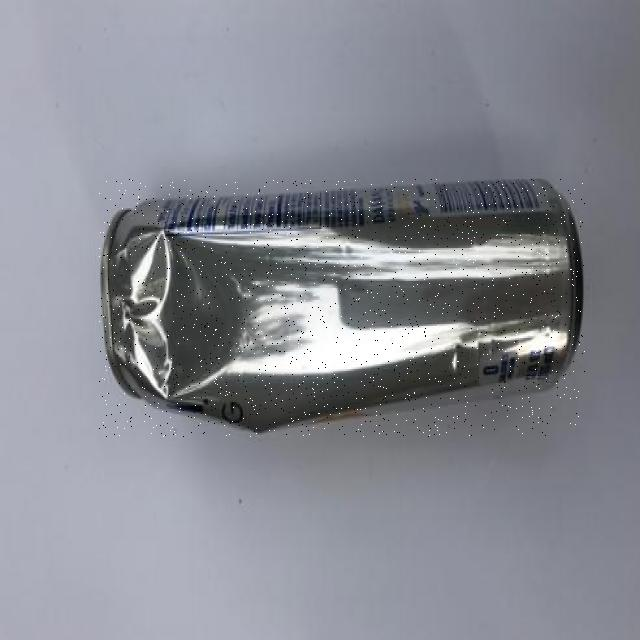metal: (99, 180, 585, 437)
